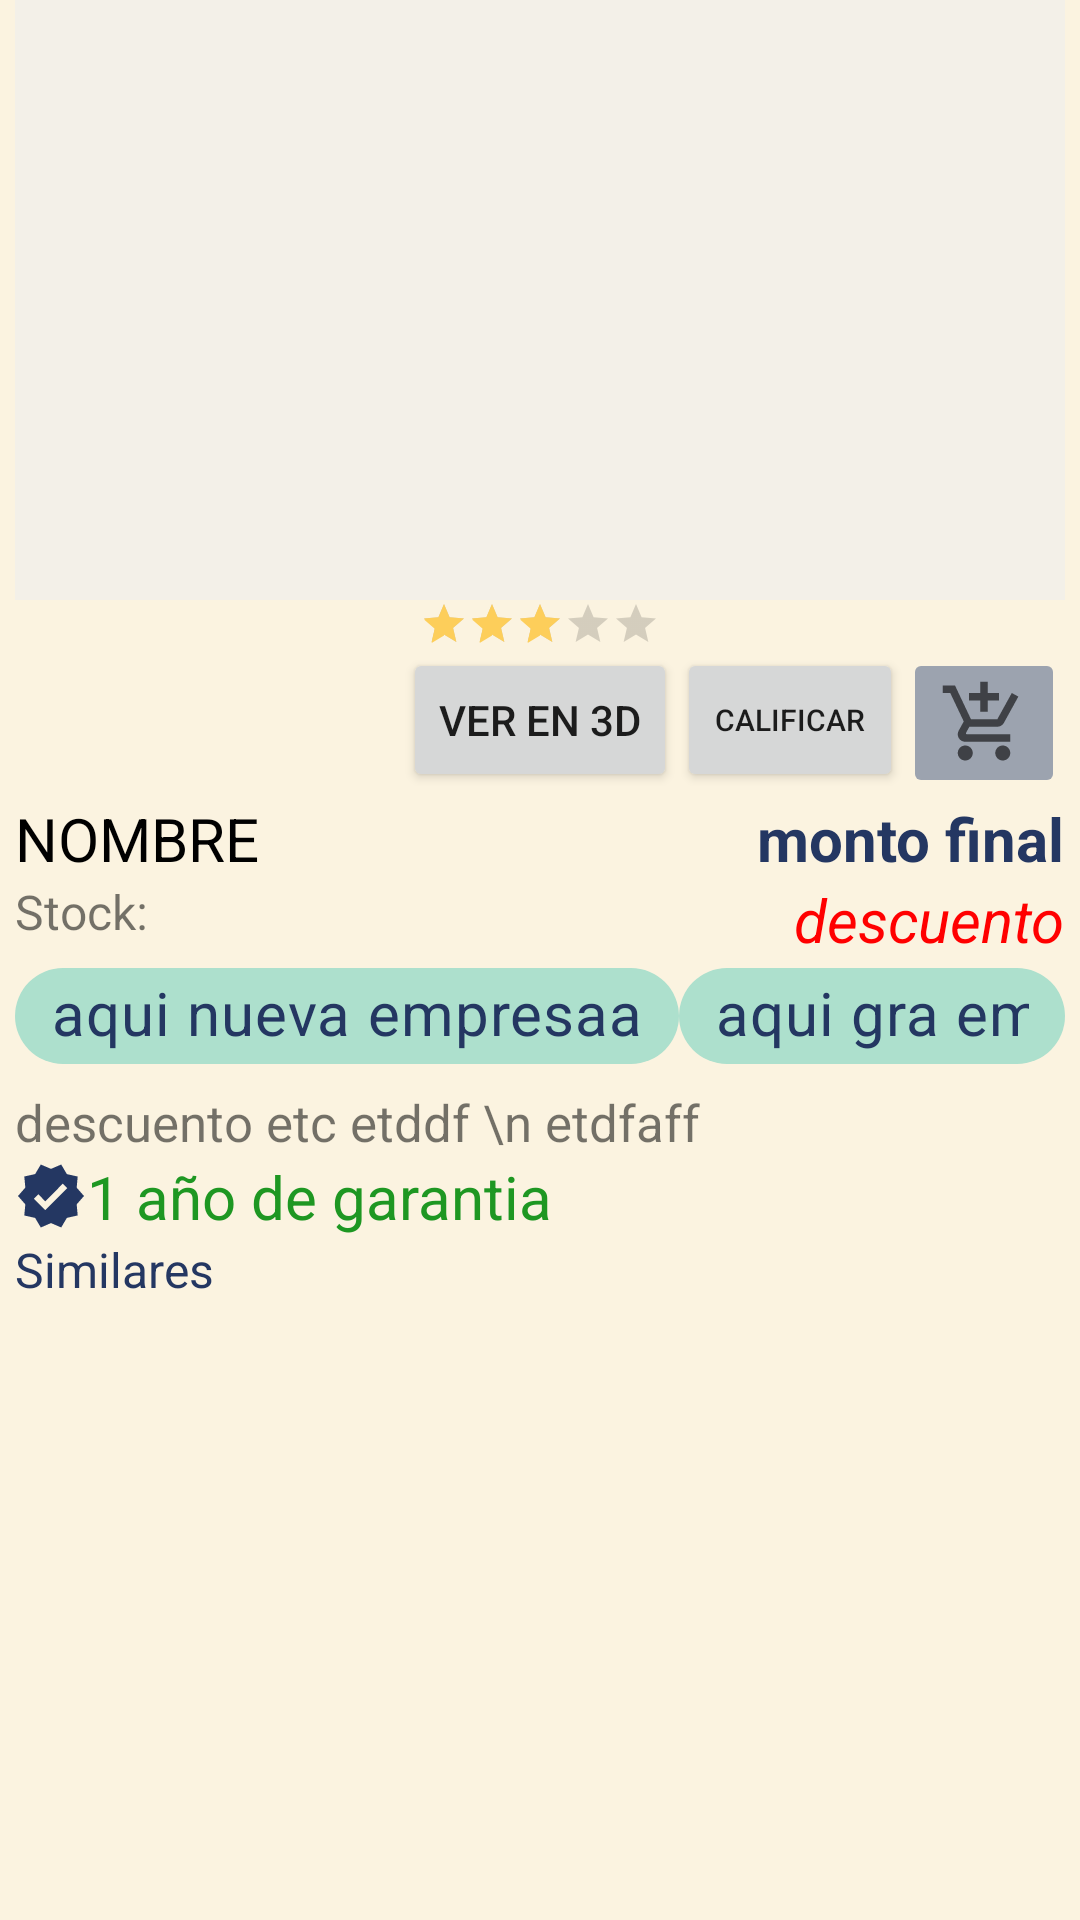

Where to tap for icons on this 1080x1920 app screen, as (x,y):
carrito agregar: (984,723)
